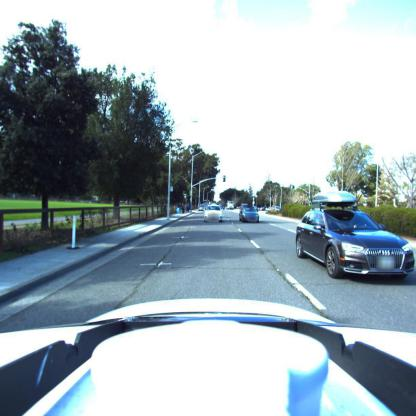car: (295, 204, 416, 280), (202, 204, 223, 221), (239, 206, 259, 222)
